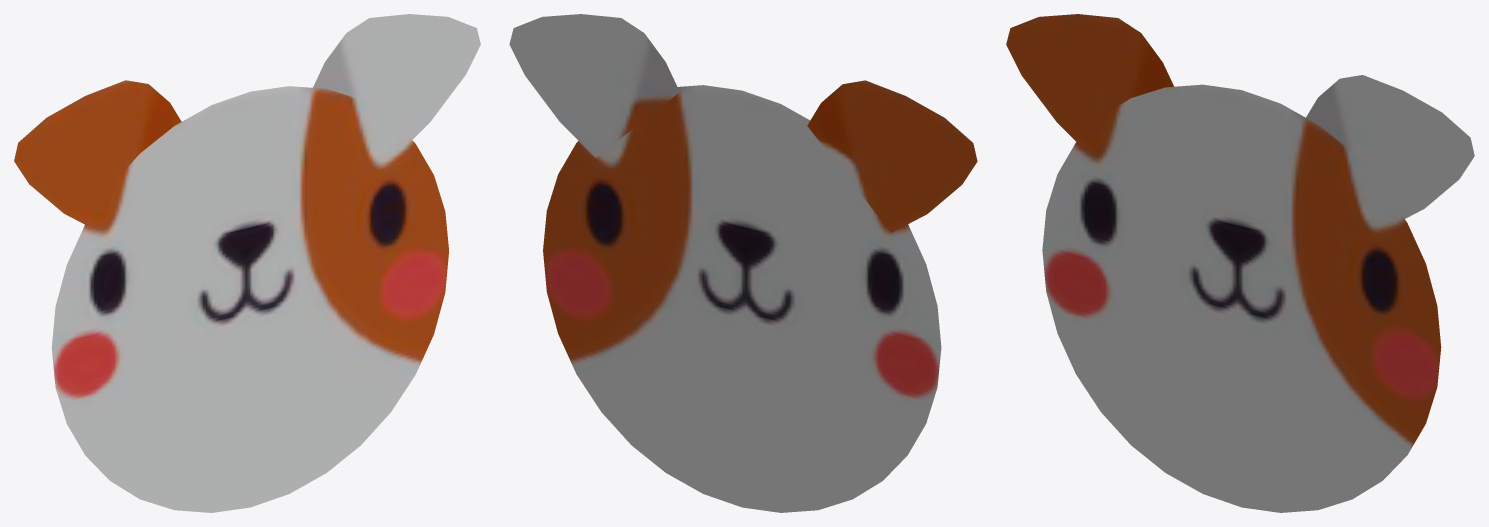
File: Dog.fbx
3 views of the same model, side by side, from view 1: azimuth 30°, elevation 25°; view 2: azimuth 150°, elevation 25°; view 3: azimuth 330°, elevation 25° (orthographic).
Visible parts, largest first — view 1: Dog; view 2: Dog; view 3: Dog.
Part boxes in pixels (left/top/right/bottom): Dog: left=14, top=14, right=480, bottom=512; Dog: left=509, top=14, right=977, bottom=512; Dog: left=1006, top=14, right=1474, bottom=512.
Bounding box in the file's own units: 235 × 221 × 0.7212.
